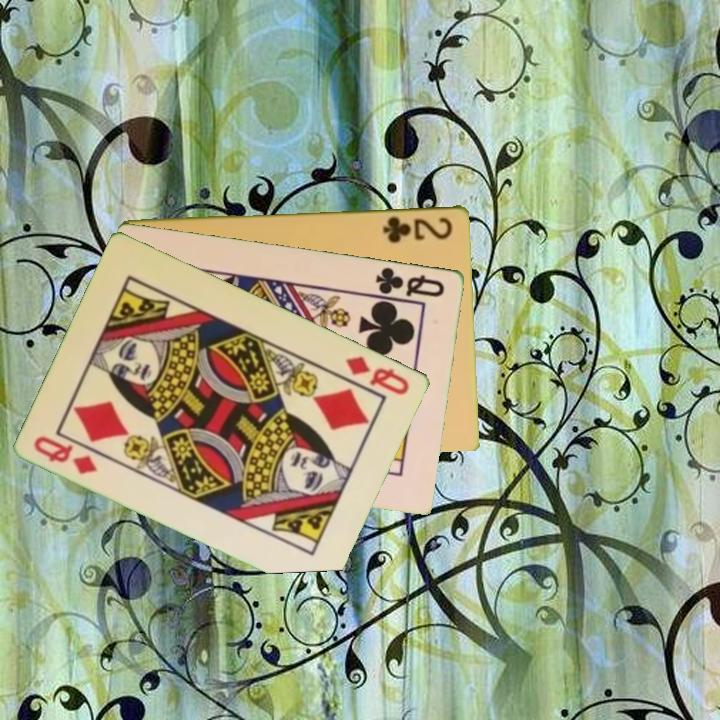2c: (379, 212, 456, 245)
Qc: (373, 263, 448, 300)
Qd: (30, 432, 102, 477), (343, 352, 413, 398)
